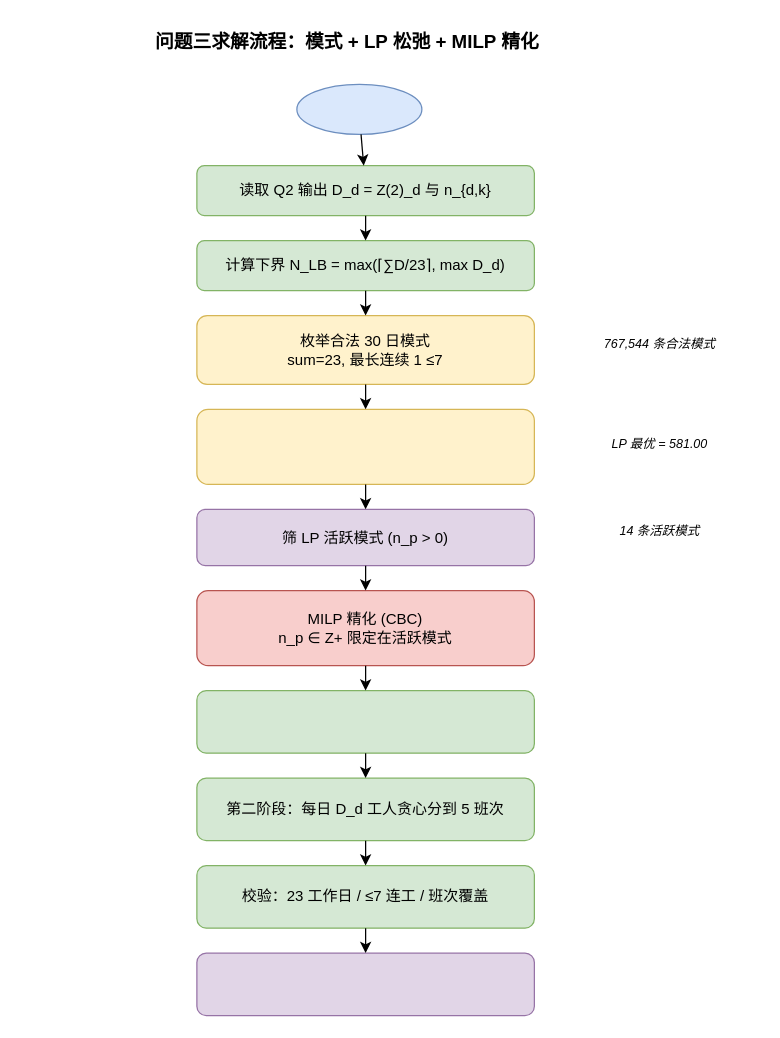
This 780x1038 diagram has some shape labels left out. Each missing label, with the centre of its shape:
"LP 松弛 (scipy.linprog HiGHS) min ∑n_p s.t. P^T n ≥ D, n≥0" belongs at [365,446].
"N = ∑ n_p；展开 w_{i,d}（N×30）" belongs at [365,721].
"导出 q3_solution.json (N=581)" belongs at [365,984].
"开始" belongs at [359,108].
